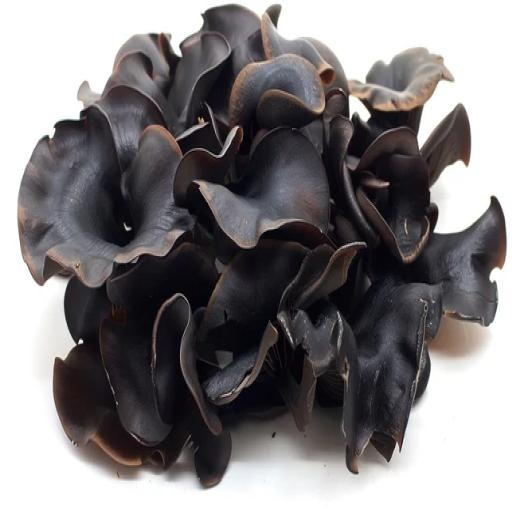Wood Ear Mushroom: (13, 0, 512, 509)
